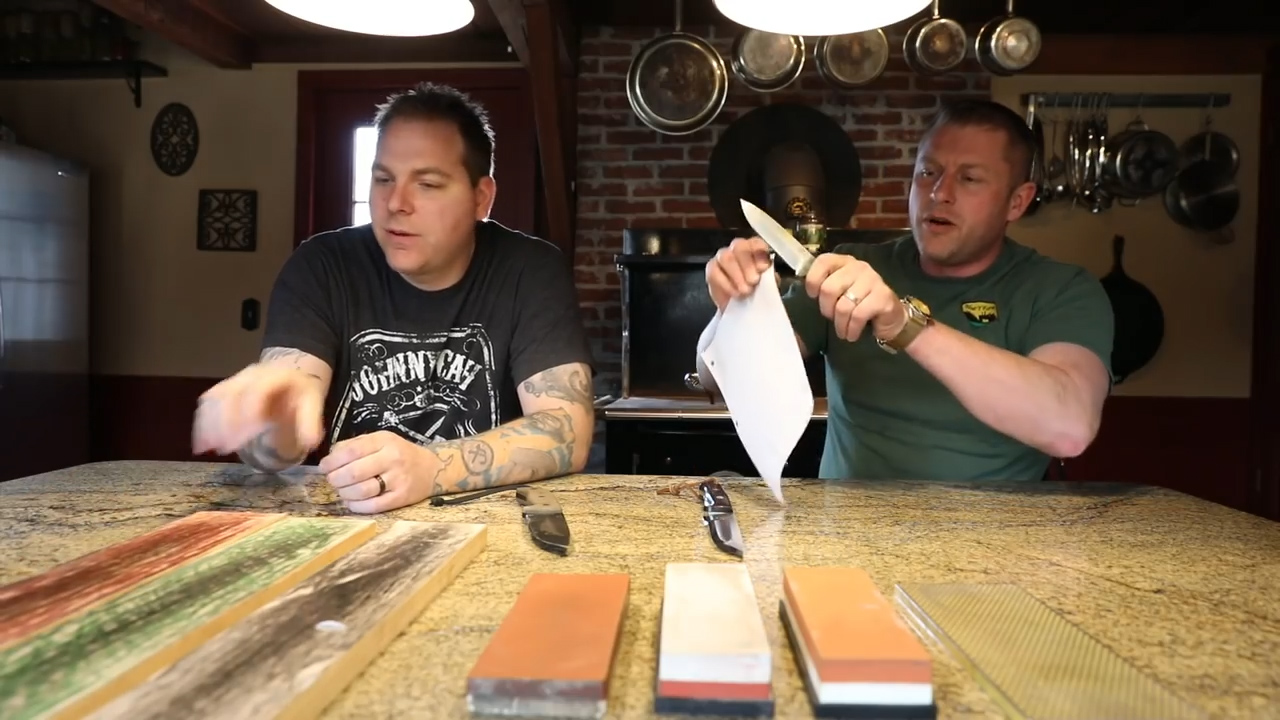knife: (722, 184, 863, 323)
